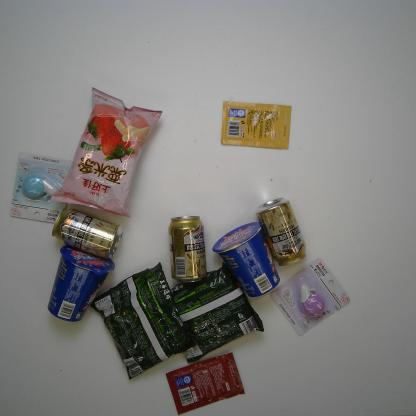Alcohol: (255, 196, 308, 267), (51, 206, 122, 259), (168, 215, 207, 282)
Dessert: (46, 244, 116, 322), (212, 220, 280, 298)
Instant Noodles: (87, 261, 197, 381), (169, 259, 265, 363)
Puffed Food: (49, 86, 163, 218)
Seasoner: (165, 352, 245, 416), (220, 100, 292, 150)
Stationery: (270, 256, 352, 337), (8, 152, 73, 225)
